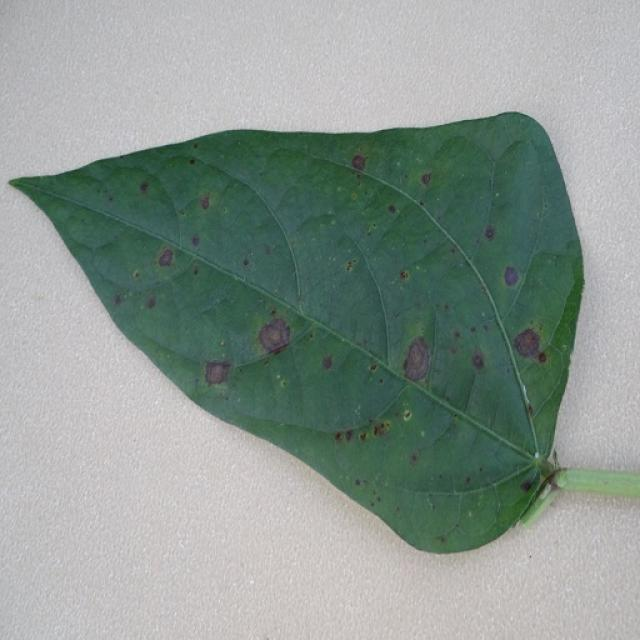Anthracnose: (402, 335, 433, 381), (257, 317, 292, 355), (510, 326, 544, 361), (204, 359, 232, 385), (503, 266, 520, 287), (157, 248, 174, 268), (471, 349, 485, 370), (351, 154, 367, 171), (520, 478, 534, 492), (420, 172, 432, 186), (322, 356, 333, 370), (485, 226, 496, 239), (146, 296, 157, 309), (200, 196, 210, 210), (191, 234, 200, 247), (387, 205, 396, 214)
Blackgram: (12, 112, 639, 551)
